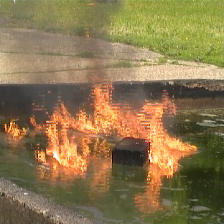fire_h: (30, 81, 197, 210), (4, 118, 28, 140)
